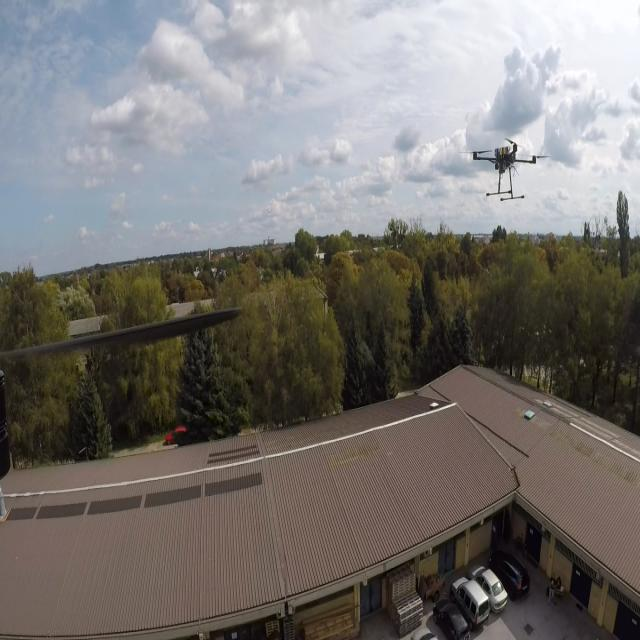UAV: (460, 132, 552, 202)
